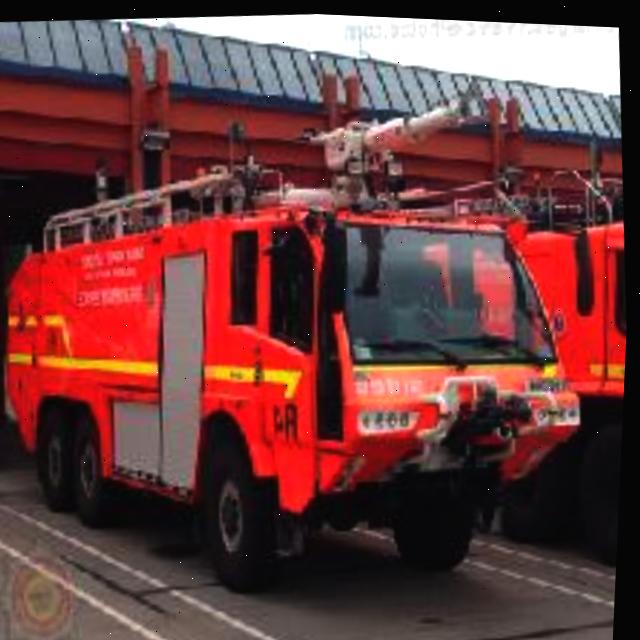emergency: (0, 156, 603, 596)
